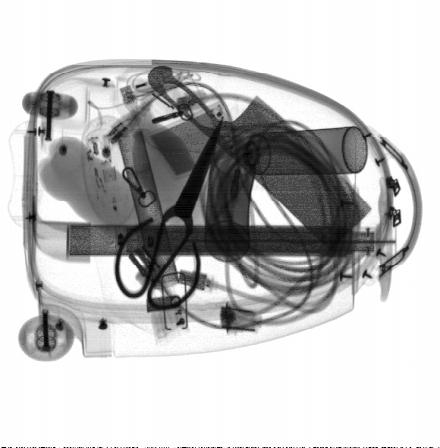Knife: (148, 65, 373, 251)
Powerbank: (143, 103, 239, 183)
Scissors: (114, 114, 223, 311)
